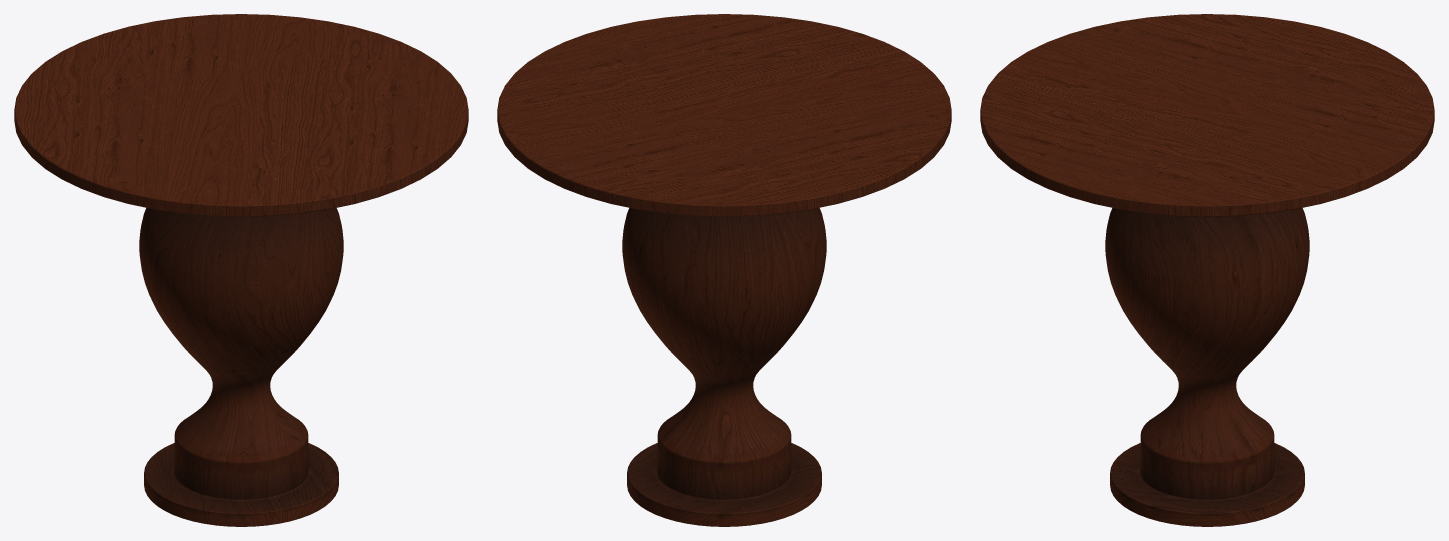
The model's file is table.obj.
3 renders of one model, left to right at view 1: azimuth 30°, elevation 25°; view 2: azimuth 150°, elevation 25°; view 3: azimuth 270°, elevation 25°, orthographic.
Visible parts, largest first — view 1: 10248_Side_Table_v1_iterations-2; view 2: 10248_Side_Table_v1_iterations-2; view 3: 10248_Side_Table_v1_iterations-2.
Part boxes in pixels (<box>): 10248_Side_Table_v1_iterations-2: <box>14,14,468,526</box>; 10248_Side_Table_v1_iterations-2: <box>497,14,951,526</box>; 10248_Side_Table_v1_iterations-2: <box>980,14,1434,526</box>.
Bounding box in the file's own units: 2.06 × 1.88 × 2.06.
Materials: 1 (1 with a texture image).
